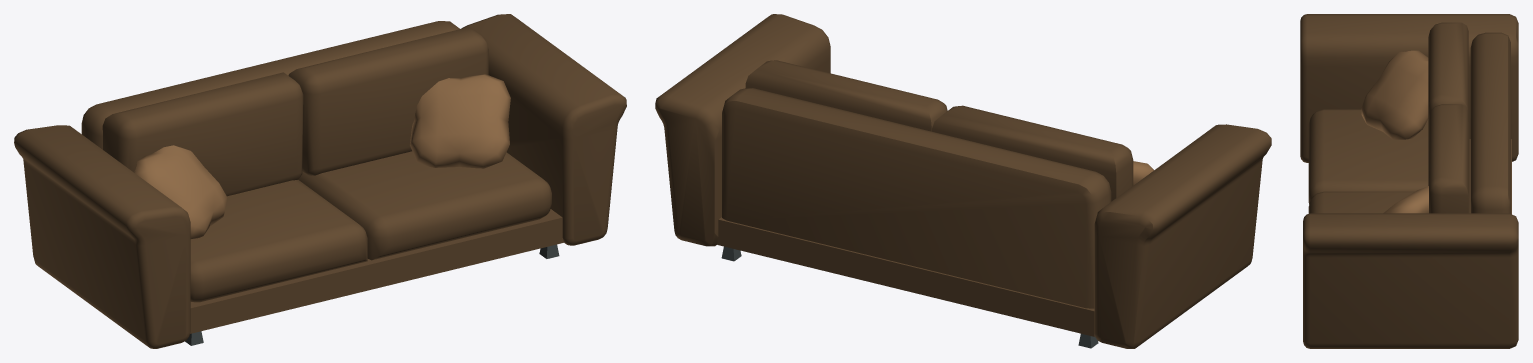
File: Seat-Large-1.fbx
3 views of the same model, side by side, from view 1: azimuth 30°, elevation 25°; view 2: azimuth 150°, elevation 25°; view 3: azimuth 270°, elevation 25° (orthographic). The views are drawn at different scales.
Visible parts, largest first — view 1: Seat-Large, Seat-Pillow-1, Seat-Pillow-2; view 2: Seat-Large; view 3: Seat-Large, Seat-Pillow-2, Seat-Pillow-1.
Boxes of the visible parts, left/top/right/bottom form: Seat-Large: left=14, top=14, right=626, bottom=348; Seat-Pillow-1: left=410, top=74, right=510, bottom=168; Seat-Pillow-2: left=134, top=145, right=227, bottom=238; Seat-Large: left=655, top=14, right=1271, bottom=348; Seat-Large: left=1300, top=14, right=1518, bottom=348; Seat-Pillow-2: left=1361, top=50, right=1428, bottom=139; Seat-Pillow-1: left=1383, top=186, right=1428, bottom=213.
Bounding box in the file's own units: 3.23 × 1.06 × 1.34.
